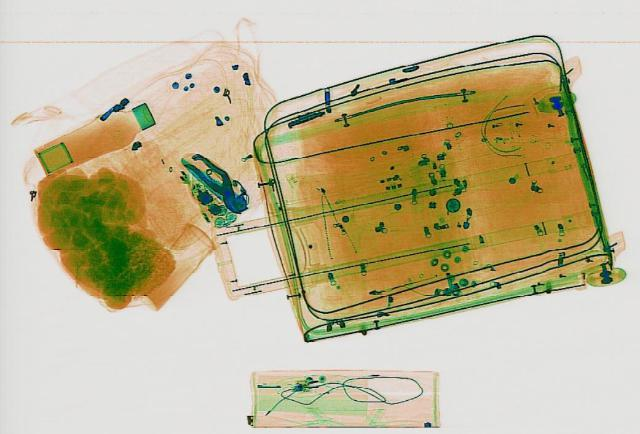Pliers: (174, 148, 260, 214)
